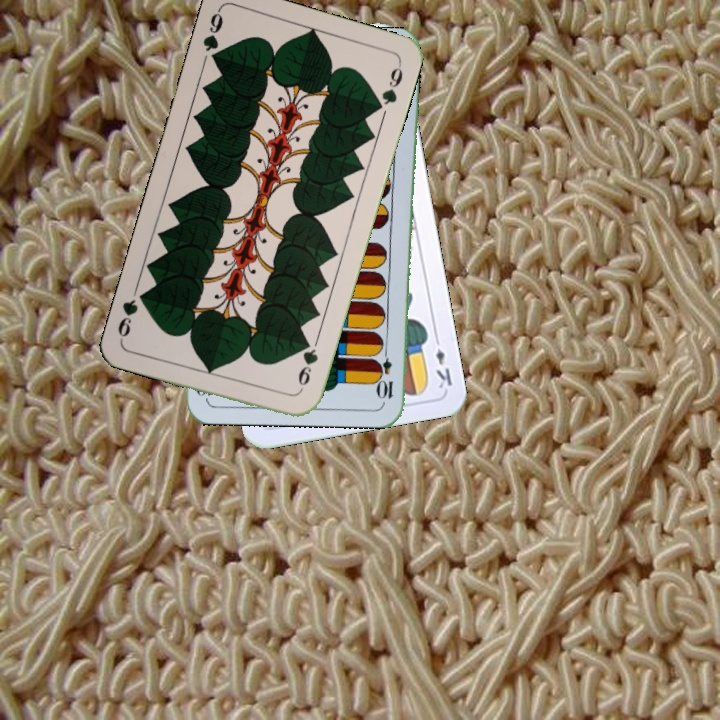E10: (377, 342, 395, 402)
EK: (430, 331, 455, 391)
G9: (199, 6, 226, 67), (294, 335, 321, 389)
